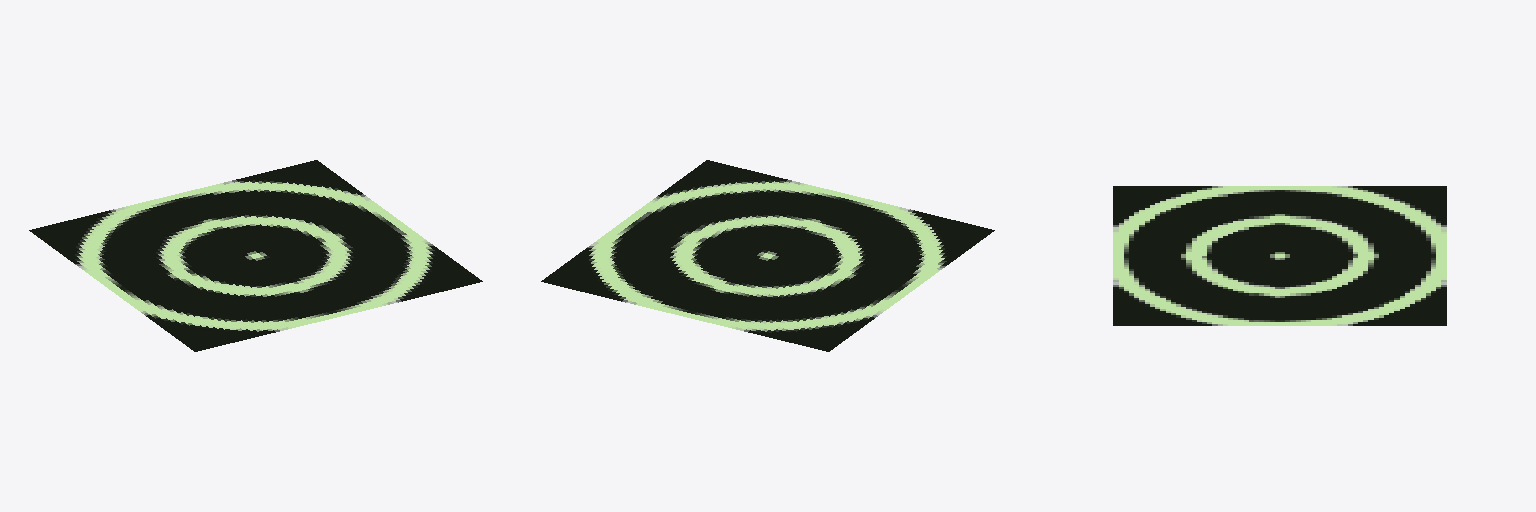
3 renders of one model, left to right at view 1: azimuth 30°, elevation 25°; view 2: azimuth 150°, elevation 25°; view 3: azimuth 270°, elevation 25°, orthographic.
Parts seen in each view (by area): view 1: 平面; view 2: 平面; view 3: 平面.
Part boxes in pixels (bbox=[...]): 平面: bbox=[29, 160, 482, 351]; 平面: bbox=[541, 160, 994, 351]; 平面: bbox=[1113, 186, 1446, 325].
Size of the model in its own units: 200 by 0 by 200.
1 materials, 1 textured.